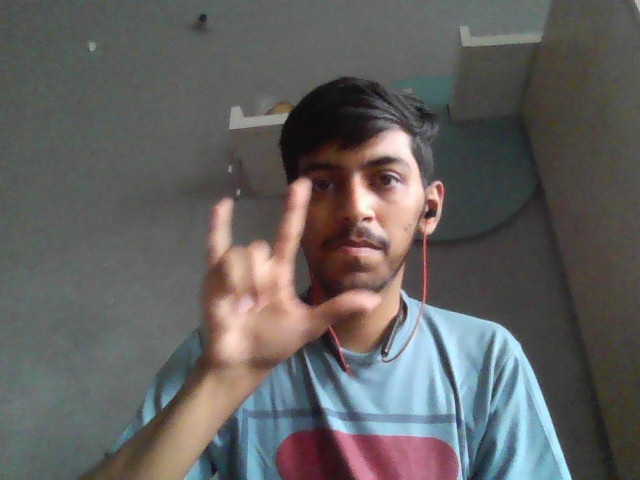I Love You: (197, 173, 384, 371)
